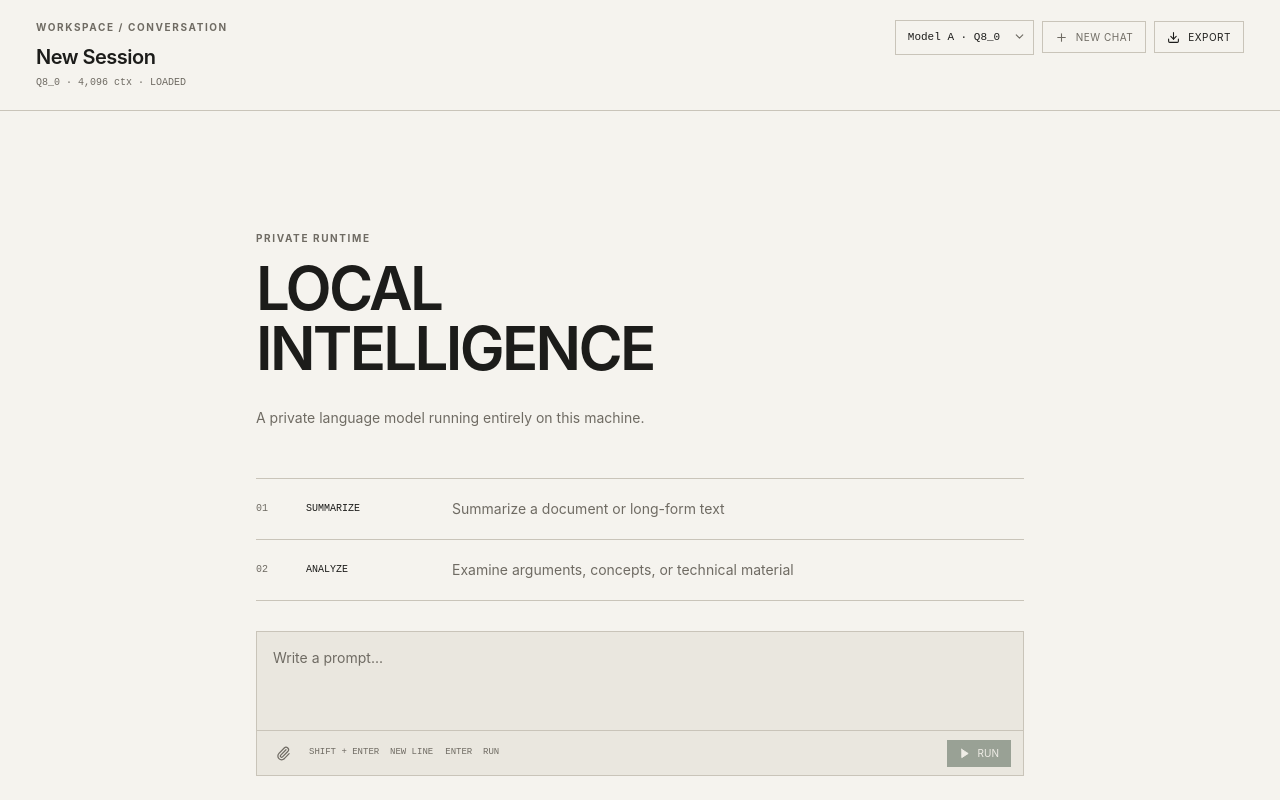
ChatWorkspace settings wiring › uses the persisted sampling settings for the next chat
Type "Hello" into the text box with placeholder "Write a prompt...".
click(640, 678); type("Hello")  # box x1=257 y1=632 x2=1023 y2=724
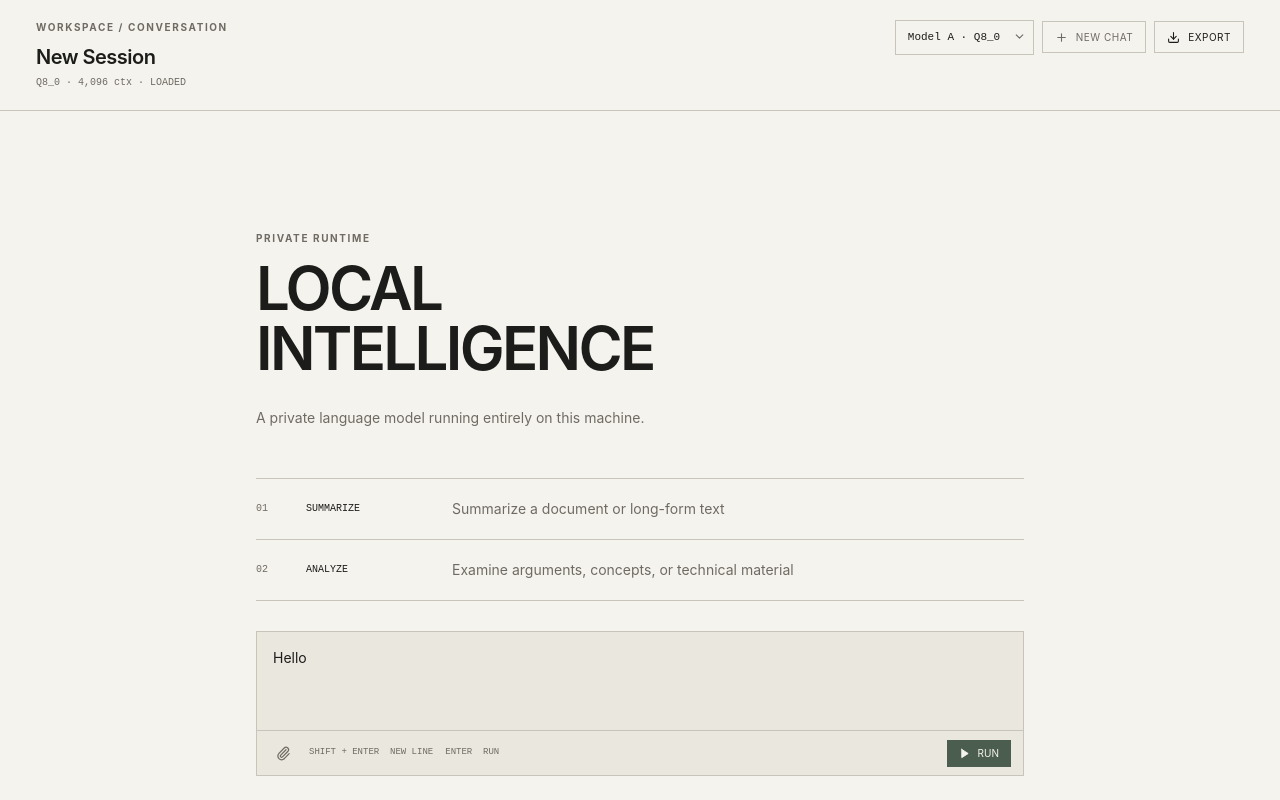
Press Enter in the text box with placeholder "Write a prompt...", box x1=257 y1=632 x2=1023 y2=724
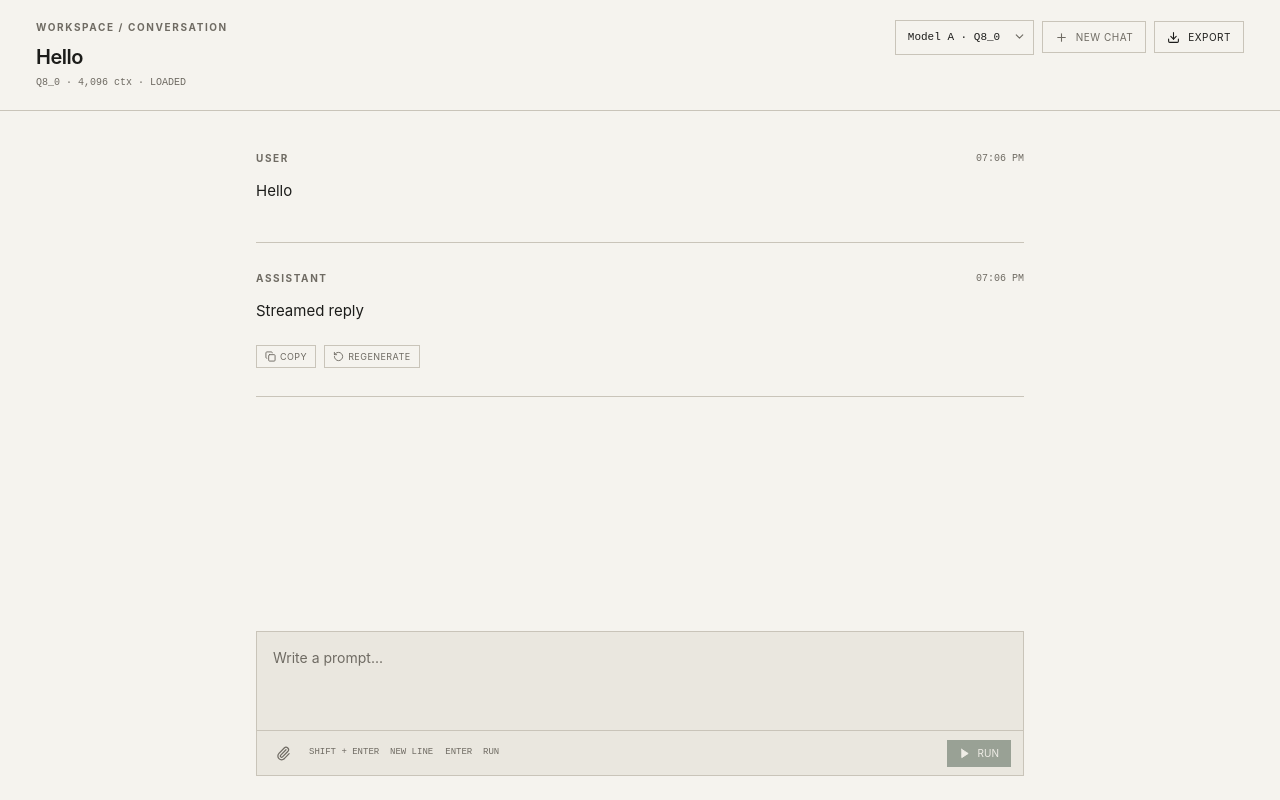
Result: the text "Streamed reply" is shown at x1=256 y1=301 x2=364 y2=320
